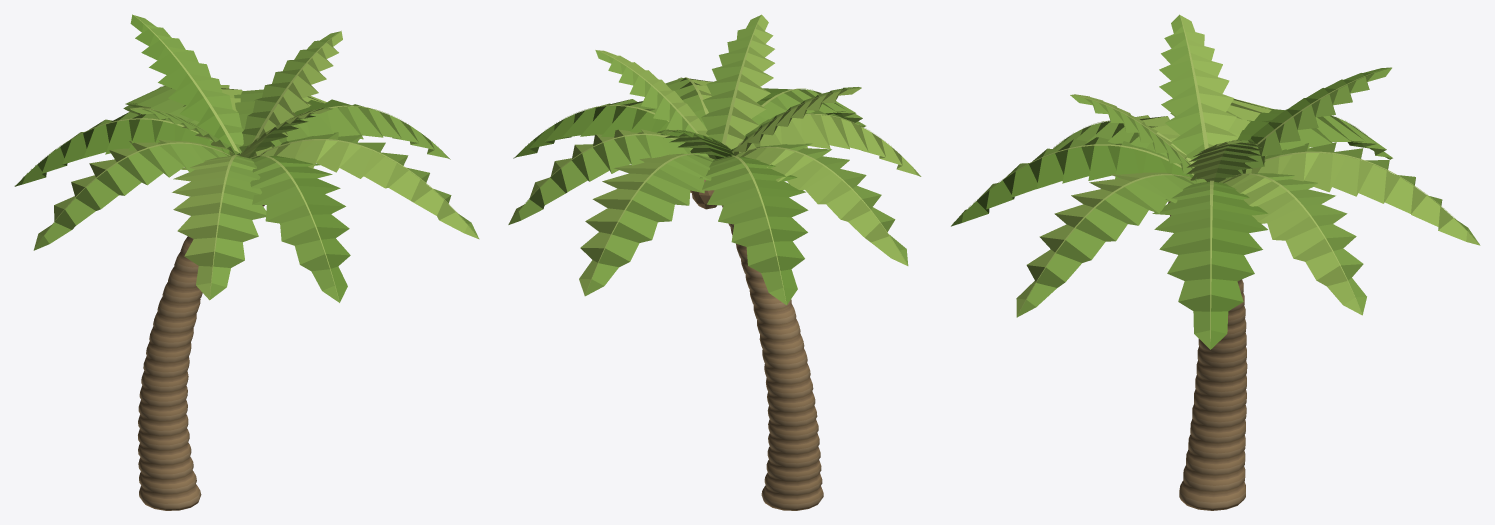
File: Palm.fbx
3 views of the same model, side by side, from view 1: azimuth 30°, elevation 25°; view 2: azimuth 150°, elevation 25°; view 3: azimuth 270°, elevation 25° (orthographic). The views are drawn at different scales.
Parts seen in each view (by area): view 1: SM_Palm; view 2: SM_Palm; view 3: SM_Palm.
Part boxes in pixels (x1,y1,x2,y2): SM_Palm: (14, 14, 479, 510); SM_Palm: (508, 14, 921, 510); SM_Palm: (951, 14, 1480, 510).
Size of the model in its own units: 4.93 by 4.8 by 5.08.
